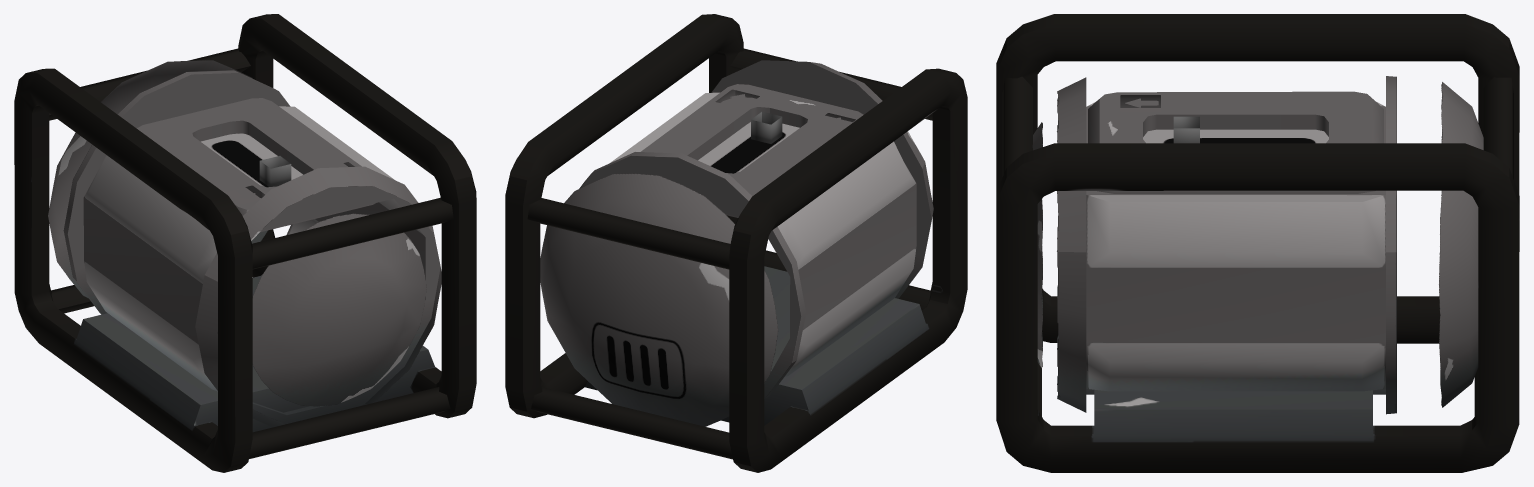
Rendered from obj_interactive_electricengine_01_on.fbx.
The picture shows the model from 3 angles, left to right: view 1: azimuth 30°, elevation 25°; view 2: azimuth 150°, elevation 25°; view 3: azimuth 270°, elevation 25°; orthographic projection. The views are drawn at different scales.
Visible parts, largest first — view 1: obj_interactive_electricengine_01_on; view 2: obj_interactive_electricengine_01_on; view 3: obj_interactive_electricengine_01_on.
Part boxes in pixels (bbox=[...]): obj_interactive_electricengine_01_on: bbox=[14, 14, 476, 472]; obj_interactive_electricengine_01_on: bbox=[505, 14, 967, 472]; obj_interactive_electricengine_01_on: bbox=[996, 14, 1519, 472].
Size of the model in its own units: 2.05 by 2.04 by 3.03.
